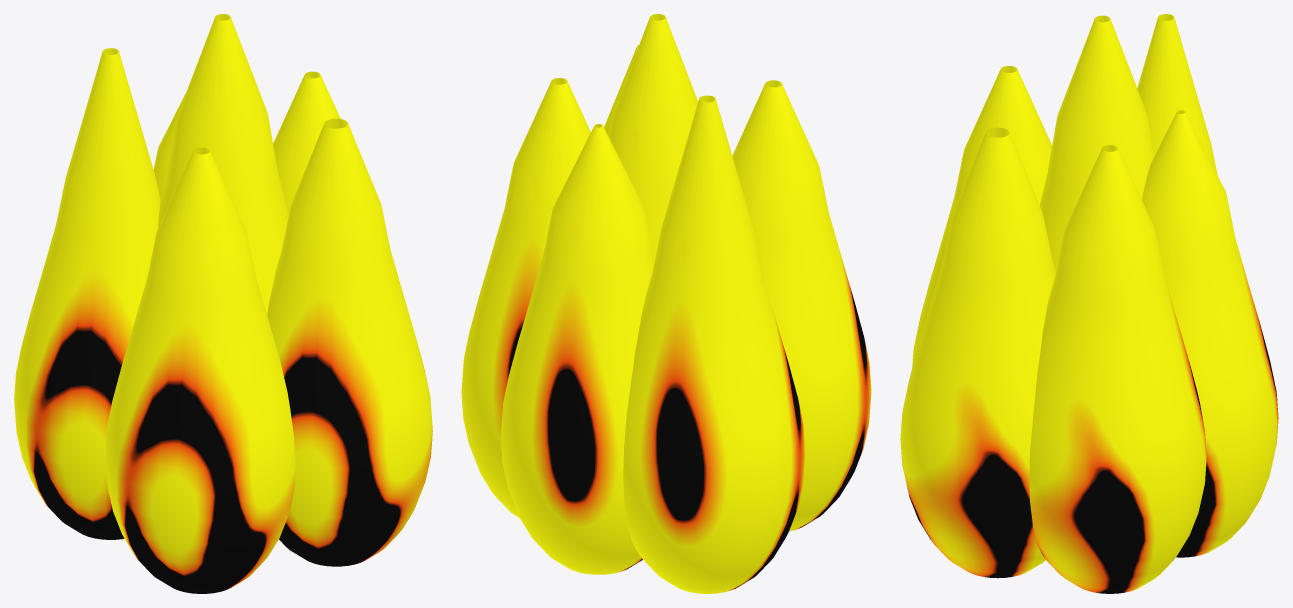
The picture shows the model from 3 angles, left to right: view 1: azimuth 30°, elevation 25°; view 2: azimuth 150°, elevation 25°; view 3: azimuth 270°, elevation 25°; orthographic projection.
Parts seen in each view (by area): view 1: Rock Type2 04.002; view 2: Rock Type2 04.002; view 3: Rock Type2 04.002.
Boxes of the visible parts, left/top/right/bottom form: Rock Type2 04.002: left=14, top=14, right=432, bottom=593; Rock Type2 04.002: left=461, top=14, right=871, bottom=593; Rock Type2 04.002: left=900, top=14, right=1278, bottom=593.
Size of the model in its own units: 0.7074 by 1.03 by 0.6741.
Materials: 1 (1 with a texture image).
